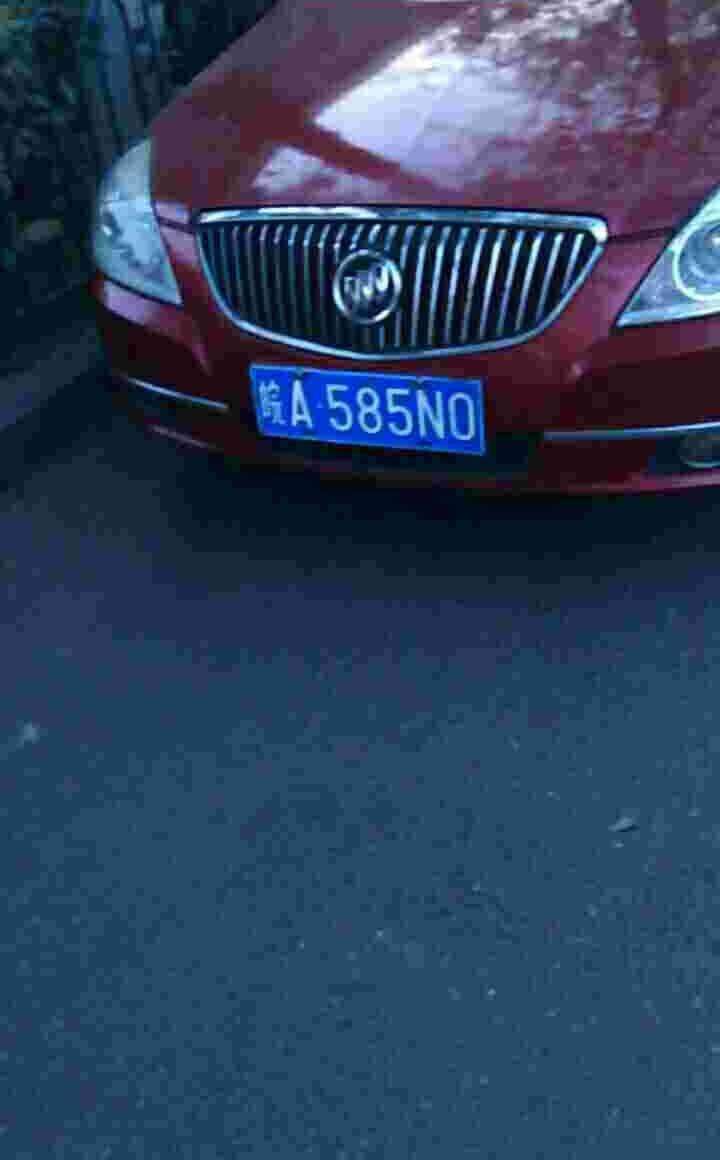plate: (247, 361, 490, 458)
